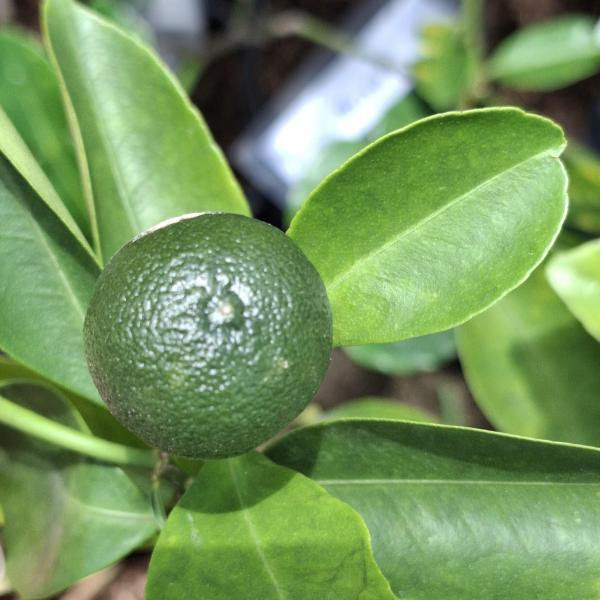Scab: (60, 198, 342, 460)
